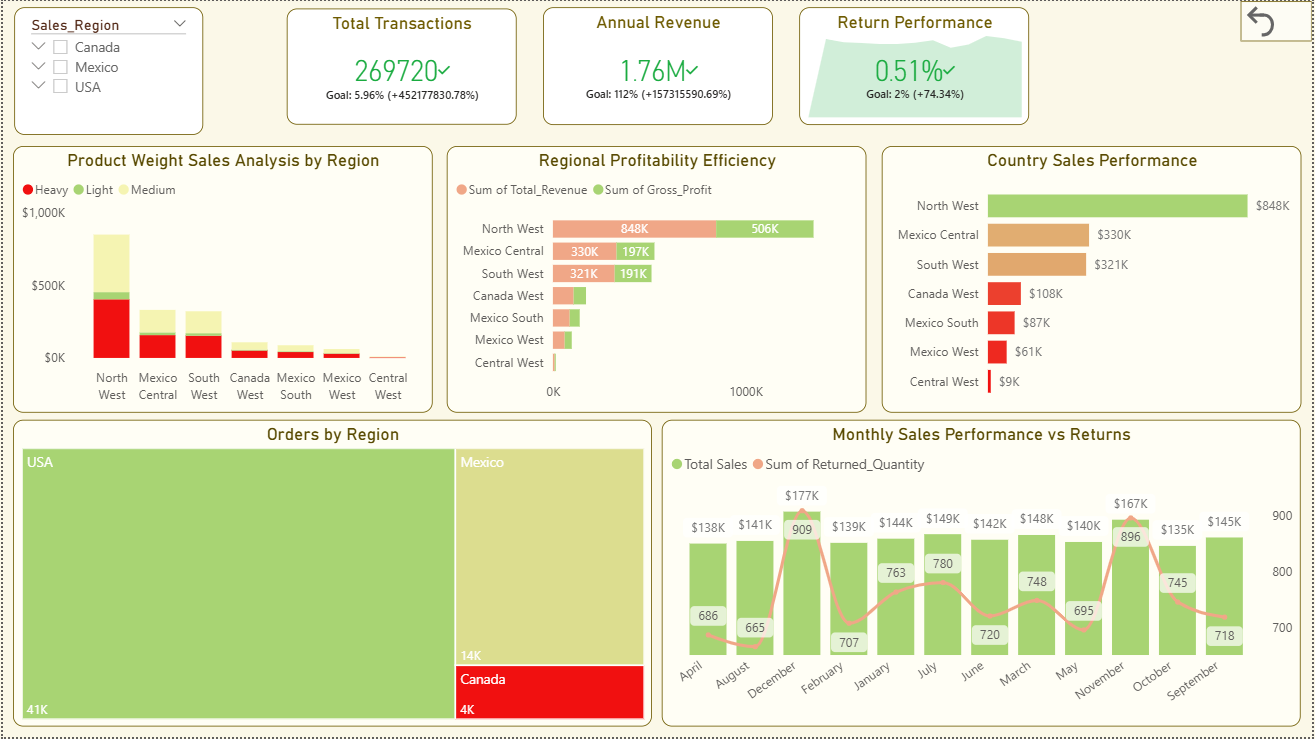

The dashboard page shown, as its layout file describes it:
{"tool":"powerbi","page":{"name":"Regional Insights","canvas":[1280,720],"ordinal":4},"visuals":[{"type":"slicer","title":"Reporting Period","fields":{"Values":["Dim_Stores.Store_country Hierarchy.Store_country","Dim_Stores.Store_country Hierarchy.Sales_region","Dim_Stores.Store_country Hierarchy.Sales_district","Dim_Stores.Store_country Hierarchy.Store_city"]},"box":[10.5,5.8,184.9,124.4],"z":0},{"type":"kpi","title":"Annual Revenue","fields":{"Goal":["Dax_Measures.YOY Growth %"],"Indicator":["Sum(vw_Store_Profitability_Insights.Total_Revenue)"],"TrendLine":["Dim_Calendar.Year"]},"box":[527.7,5.8,224.4,115.1],"z":1000,"group":"g1"},{"type":"barChart","title":"Country Sales Performance","fields":{"Y":["Dax_Measures.Total Sales"],"Category":["Dim_Stores.Store_country Hierarchy.Store_country","Dim_Stores.Store_country Hierarchy.Sales_region","Dim_Stores.Store_country Hierarchy.Sales_district","Dim_Stores.Store_country Hierarchy.Store_city"]},"box":[859.3,141.9,410.5,260.5],"z":1000,"group":"g3"},{"type":"group","id":"g1","title":"Group 1","box":[277.1,5.8,725.7,115.3],"z":2000},{"type":"treemap","title":"Orders by Region","fields":{"Group":["Dim_Stores.Store_country Hierarchy.Store_country","Dim_Stores.Store_country Hierarchy.Sales_region","Dim_Stores.Store_country Hierarchy.Sales_district","Dim_Stores.Store_country Hierarchy.Store_city","Fact_All_Sales.Transaction_date"],"Values":["Dax_Measures.Total Orders"]},"box":[10.2,410,624.4,300],"z":2000,"group":"g2"},{"type":"kpi","title":"Return Performance","fields":{"Indicator":["Dax_Measures.Return Rate %"],"Goal":["Dax_Measures.Return Target"],"TrendLine":["Dim_Calendar.Month"]},"box":[778.3,5.9,225,115],"z":3000,"group":"g1"},{"type":"columnChart","title":"Product Weight Sales Analysis by Region","fields":{"Category":["Dim_Stores.Sales_region"],"Series":["Dim_Products.Weight Level"],"Y":["Dax_Measures.Total Sales"]},"box":[10,141.9,410,260.5],"z":3000,"group":"g3"},{"type":"group","id":"g2","title":"Group 2","box":[10.2,410,1259.4,300],"z":3000},{"type":"group","id":"g3","title":"Group 3","box":[10,141.9,1259.8,260.5],"z":4000},{"type":"barChart","title":"Regional Profitability Efficiency","fields":{"Category":["vw_Regional_Performance_Insights.Sales_region"],"Y":["Sum(vw_Regional_Performance_Insights.Total_Revenue)","Sum(vw_Regional_Performance_Insights.Gross_Profit)"]},"box":[434.4,141.9,410.5,260.5],"z":4000,"group":"g3"},{"type":"lineClusteredColumnComboChart","title":"Monthly Sales Performance vs Returns","fields":{"Y2":["Sum(Fact_All_Sales.Returned_Quantity)"],"Y":["Dax_Measures.Total Sales"],"Category":["Dim_Calendar.Month Name","Dim_Calendar.Month"]},"box":[645.2,410,624.4,300],"z":4000,"group":"g2"},{"type":"actionButton","box":[1210.3,0,69.9,39.6],"z":5000},{"type":"kpi","title":"Total Transactions","fields":{"Indicator":["Dax_Measures.Total Transactions"],"TrendLine":["Dim_Calendar.Month"],"Goal":["Dax_Measures.MoM Growth %"]},"box":[277.1,7,224.4,114],"z":5000,"group":"g1"}]}

Visuals, with their boxes in screenshot pixels (x1, y1, x2, y2), scaled from the page's 1280x720 canvas onto the 1315x739 screenshot:
"Reporting Period" slicer: <bbox>11, 6, 201, 134</bbox>
"Annual Revenue" kpi: <bbox>542, 6, 773, 124</bbox>
"Country Sales Performance" barChart: <bbox>883, 146, 1305, 413</bbox>
"Group 1" group: <bbox>285, 6, 1030, 124</bbox>
"Orders by Region" treemap: <bbox>10, 421, 652, 729</bbox>
"Return Performance" kpi: <bbox>800, 6, 1031, 124</bbox>
"Product Weight Sales Analysis by Region" columnChart: <bbox>10, 146, 431, 413</bbox>
"Group 2" group: <bbox>10, 421, 1304, 729</bbox>
"Group 3" group: <bbox>10, 146, 1305, 413</bbox>
"Regional Profitability Efficiency" barChart: <bbox>446, 146, 868, 413</bbox>
"Monthly Sales Performance vs Returns" lineClusteredColumnComboChart: <bbox>663, 421, 1304, 729</bbox>
actionButton: <bbox>1243, 0, 1314, 41</bbox>
"Total Transactions" kpi: <bbox>285, 7, 515, 124</bbox>
